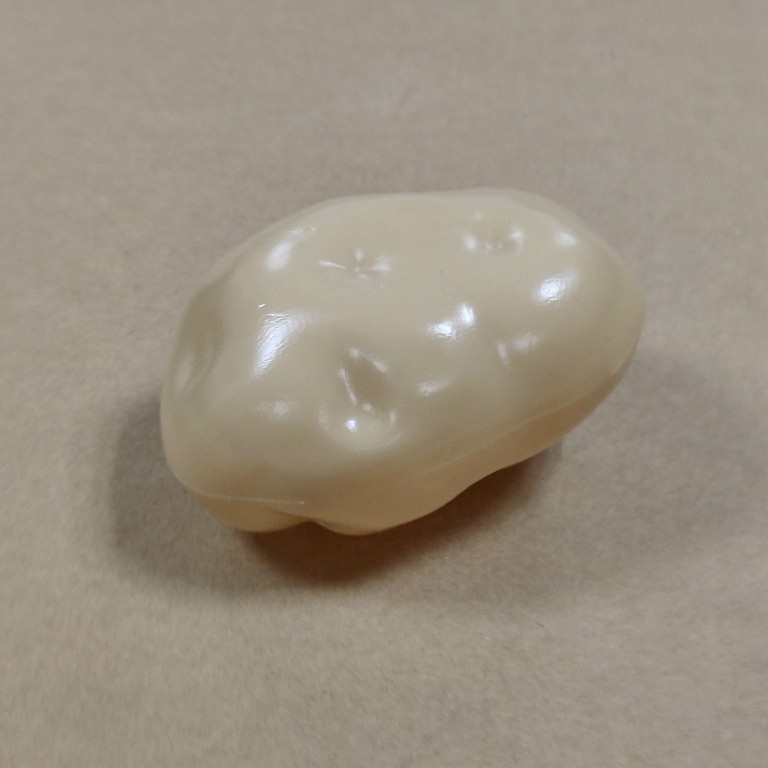fruit_potato: (152, 178, 649, 542)
